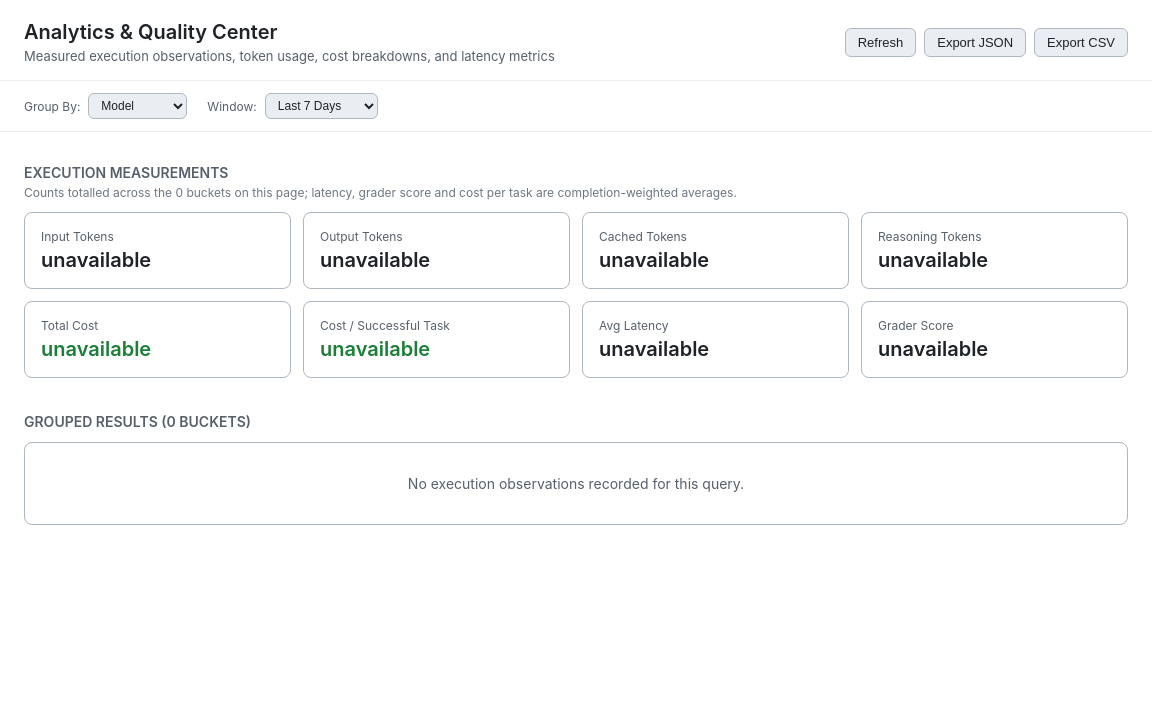
AnalyticsDashboard component › handles export requests for JSON and CSV
Click the button "Export JSON".
click(975, 42)  # box [924, 28, 1026, 56]
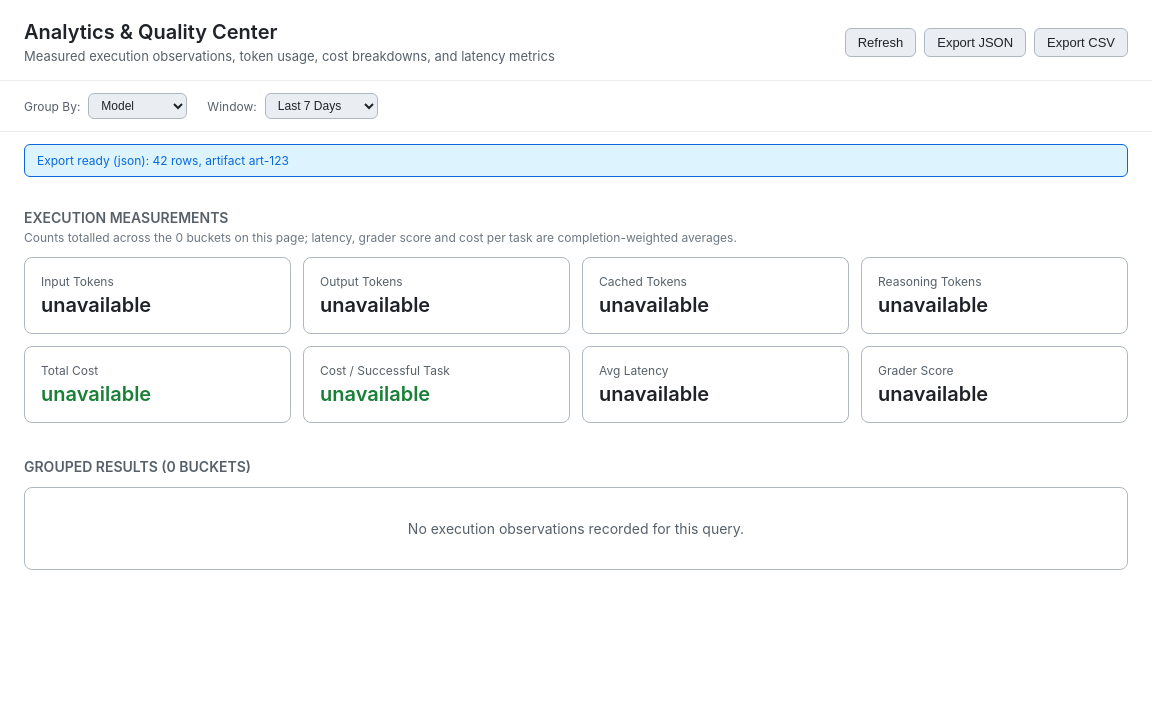
Now the message reads "Export ready (json): 42 rows, artifact art-123", box [24, 144, 1128, 177]
